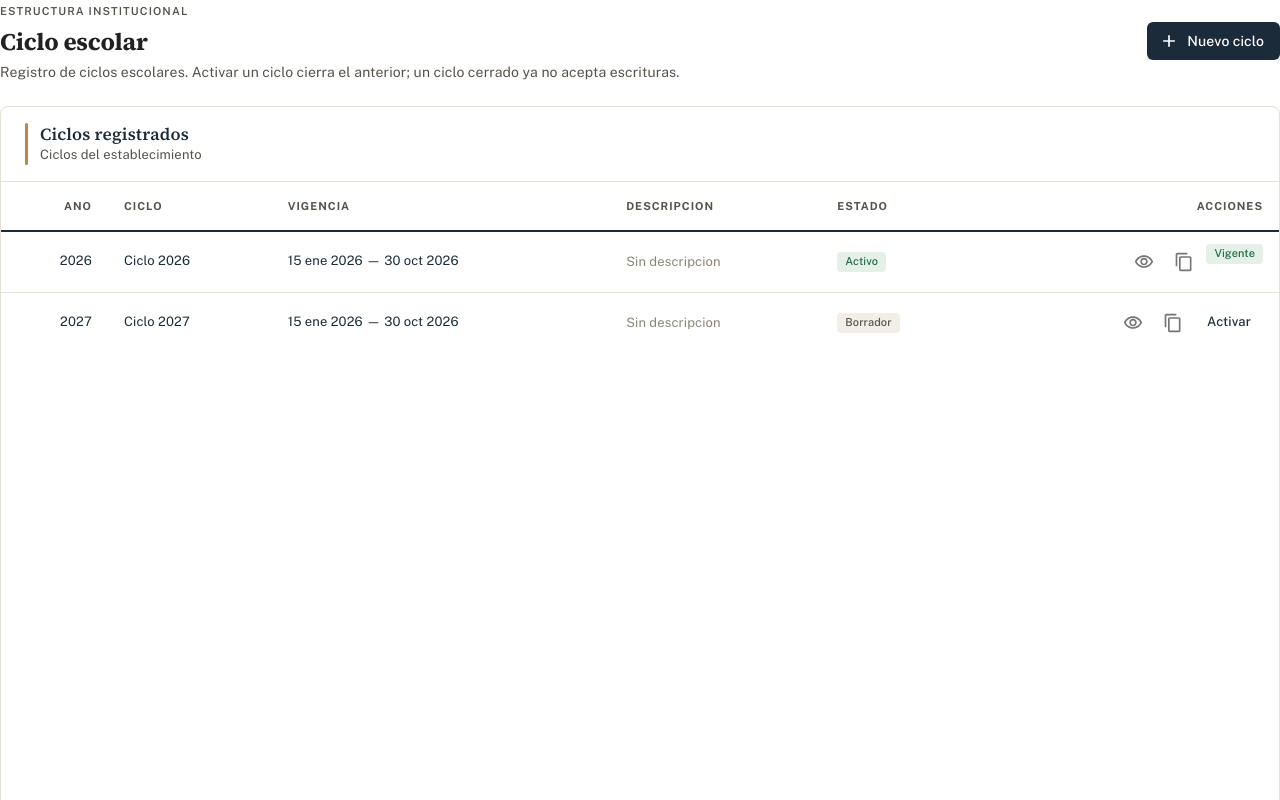
Test: pantallas de los modulos con backend previo › CyclesPage › cambiar el ano recalcula nombre y vigencia
Expected: the text "Ciclo 2026" is shown, [108, 232, 272, 293]
Click the button "Nuevo ciclo" at (1214, 41), box [1147, 22, 1279, 60]
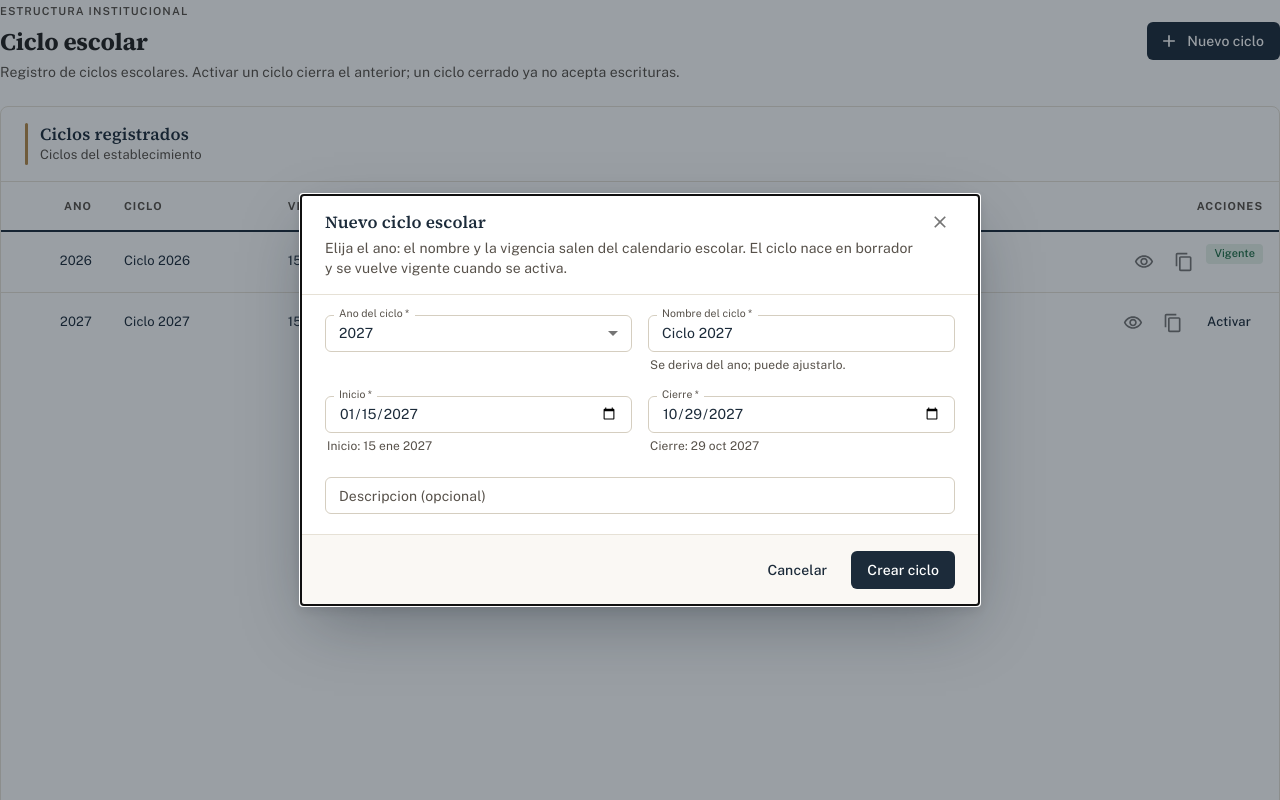
Result: the field showing "Ciclo 2027" is shown at [648, 315, 955, 352]
Click the dropdown named "Ano del ciclo" at (356, 333), box [339, 325, 373, 341]
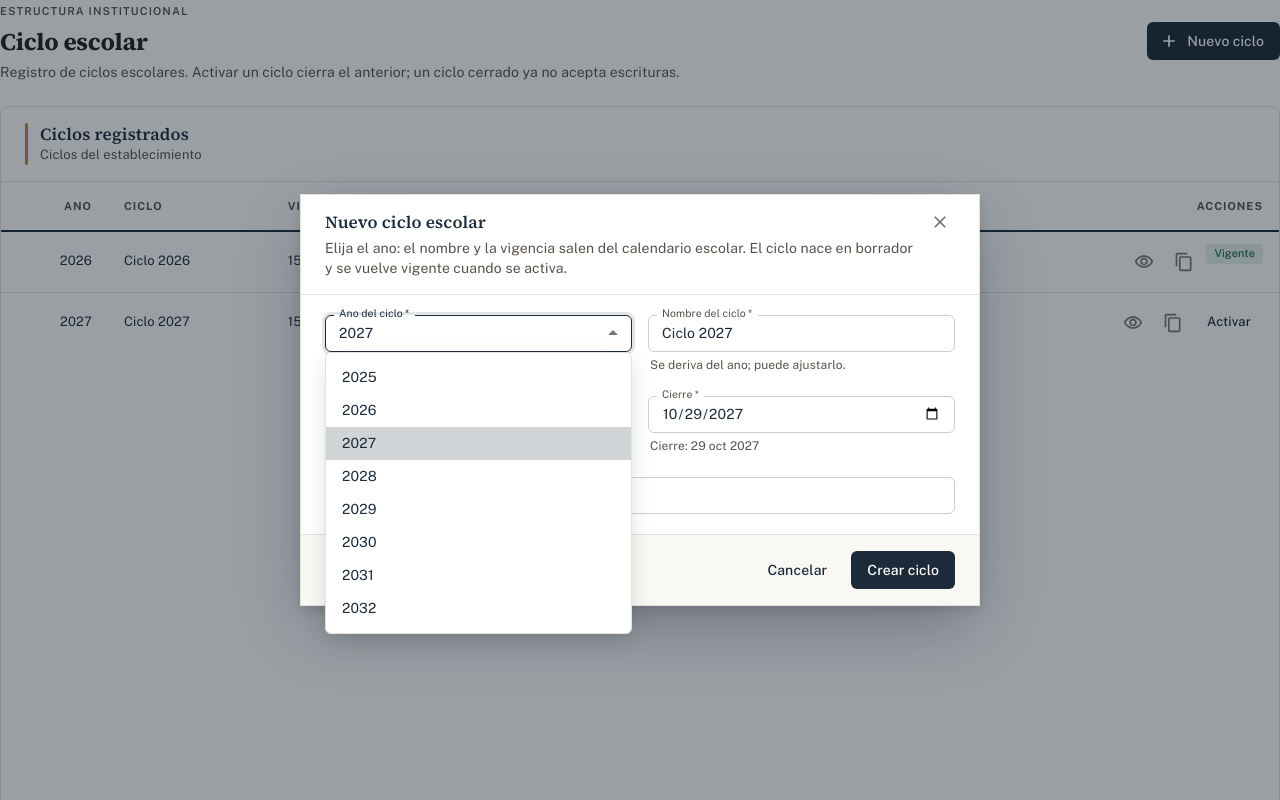
Click the option "2029" at (359, 509), box [342, 501, 377, 517]
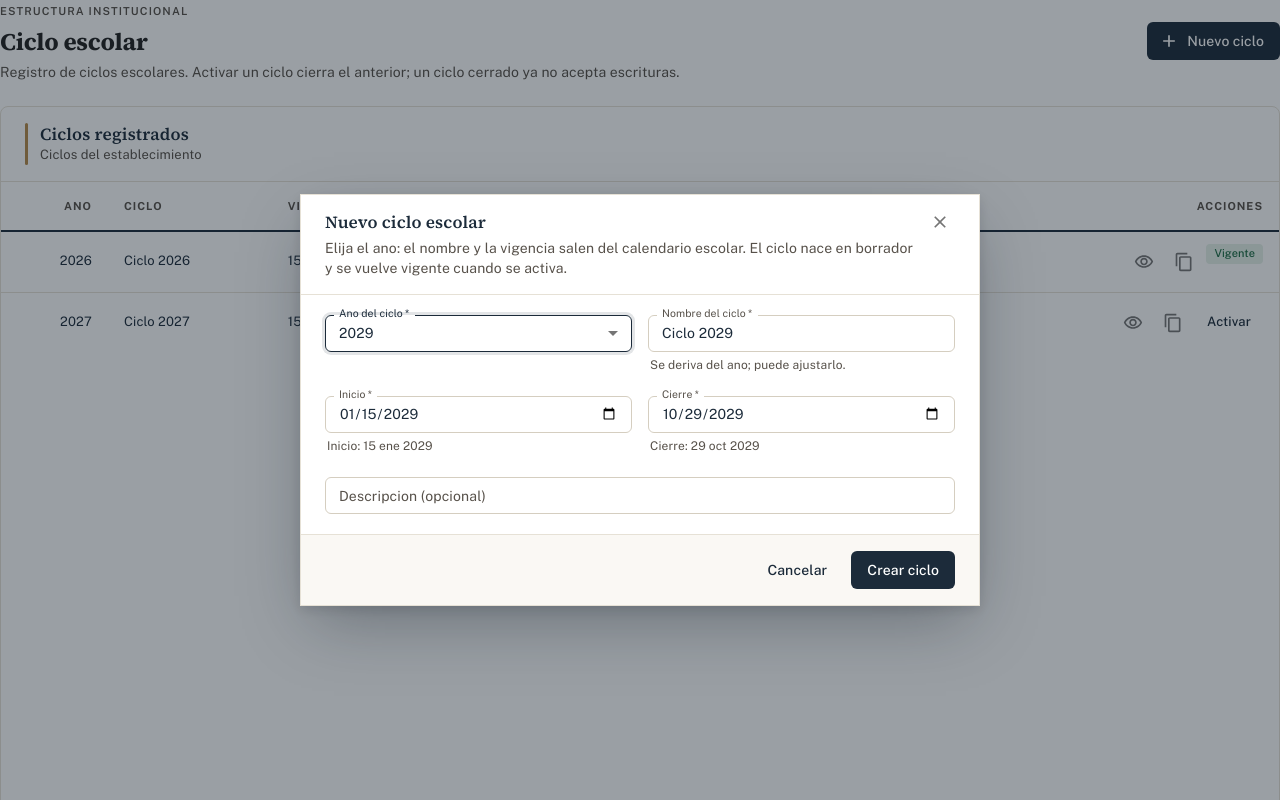
Result: the field showing "Ciclo 2029" is shown at [648, 315, 955, 352]
Result: the date field showing "2029-01-15" is shown at [325, 396, 632, 433]
